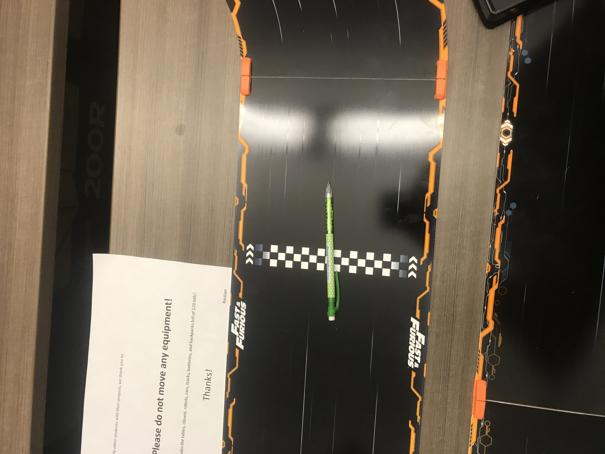Finish Line: (244, 241, 418, 281)
